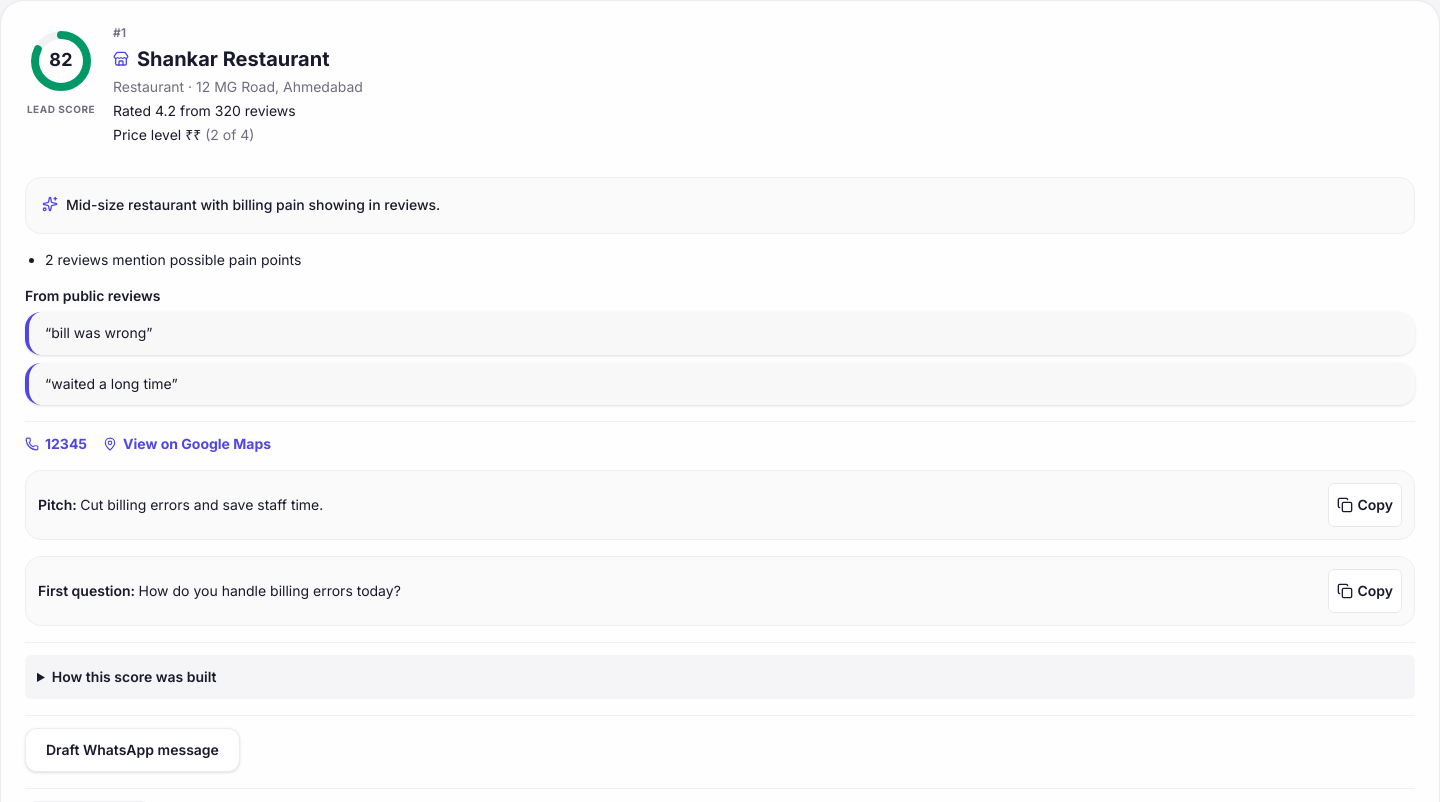
Test: LeadCard outreach flow › explains when a phone number cannot open WhatsApp
Click the button "Draft WhatsApp message": {"x": 132, "y": 750} [25, 728, 240, 772]
(page scrolled)
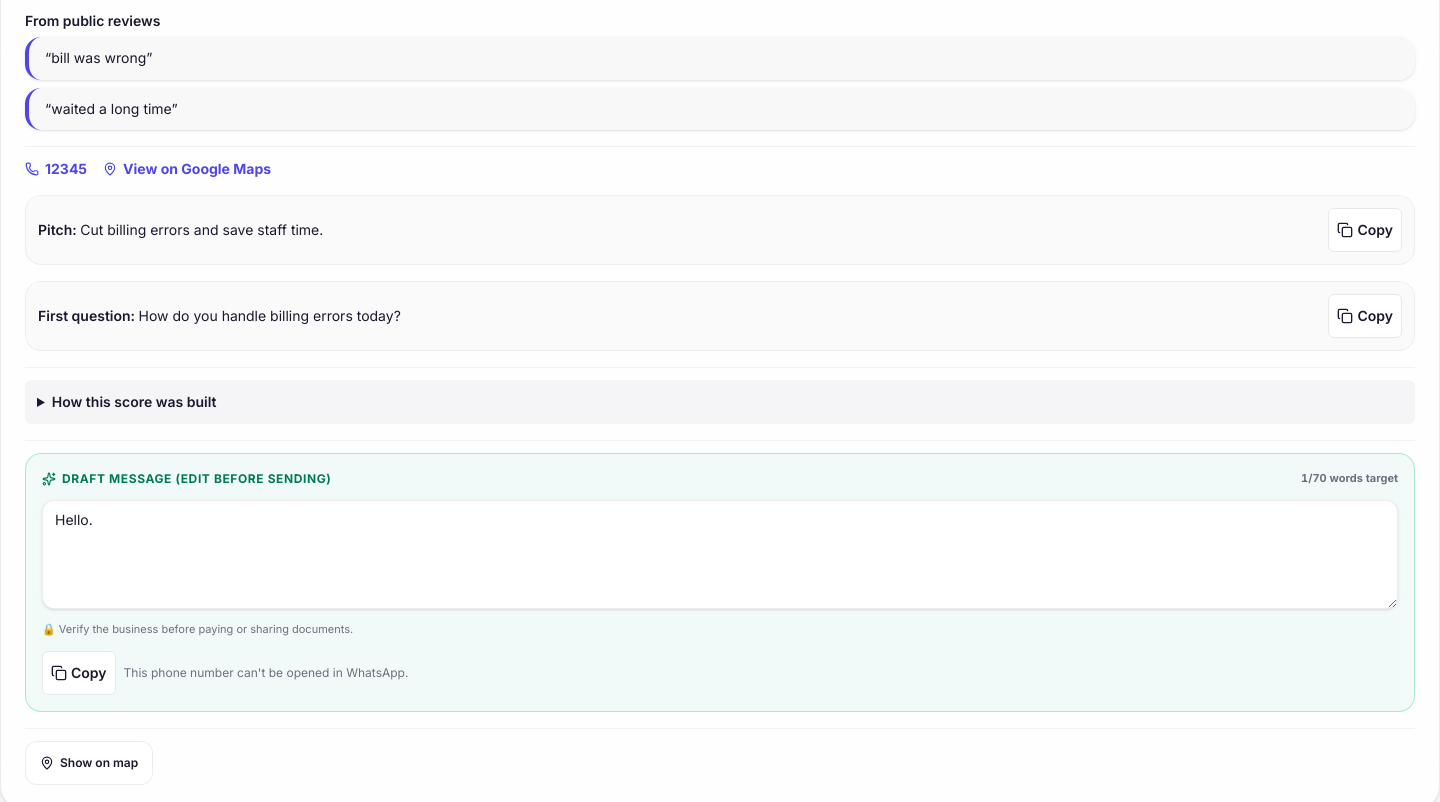
Expected: the text box labelled "Draft message (edit before sending)" is shown, [42, 500, 1398, 609]
Expected: the text "This phone number can't be opened in WhatsApp." is shown, [124, 665, 408, 681]
